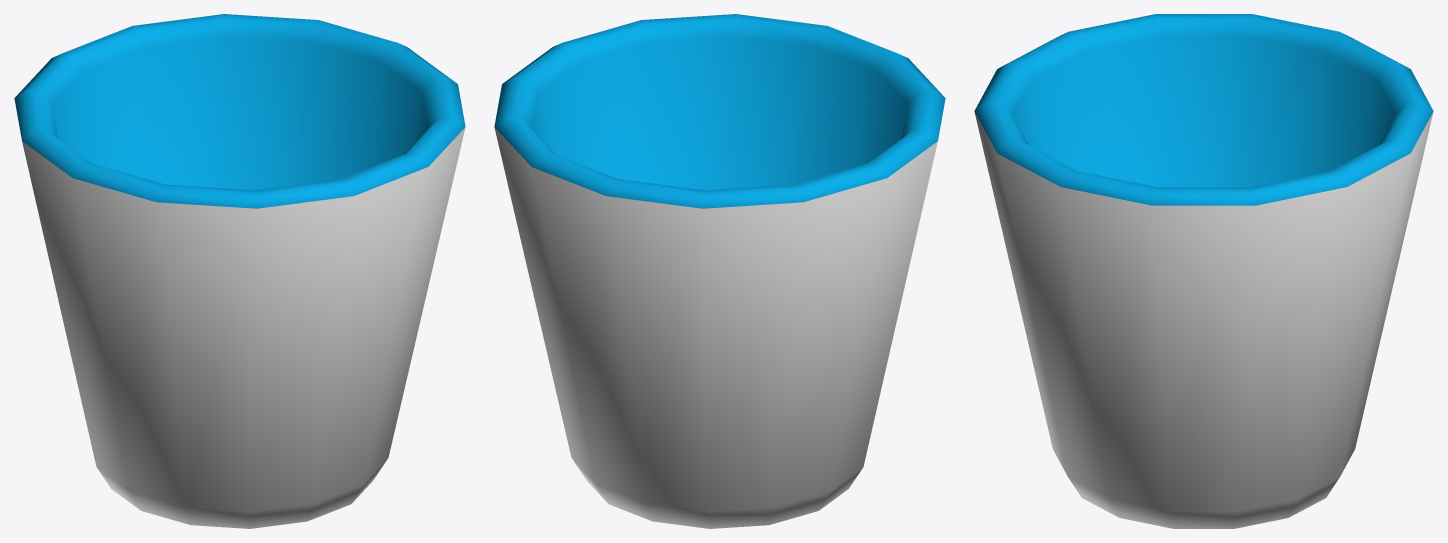
File: Blue_cup.fbx
The picture shows the model from 3 angles, left to right: view 1: azimuth 30°, elevation 25°; view 2: azimuth 150°, elevation 25°; view 3: azimuth 270°, elevation 25°; orthographic projection.
Visible parts, largest first — view 1: Blue_cup; view 2: Blue_cup; view 3: Blue_cup.
Boxes of the visible parts, left/top/right/bottom form: Blue_cup: left=14, top=14, right=465, bottom=528; Blue_cup: left=494, top=14, right=945, bottom=528; Blue_cup: left=974, top=14, right=1433, bottom=528.
Bounding box in the file's own units: 0.0274 × 0.0249 × 0.0281.
Materials: 1 (1 with a texture image).
